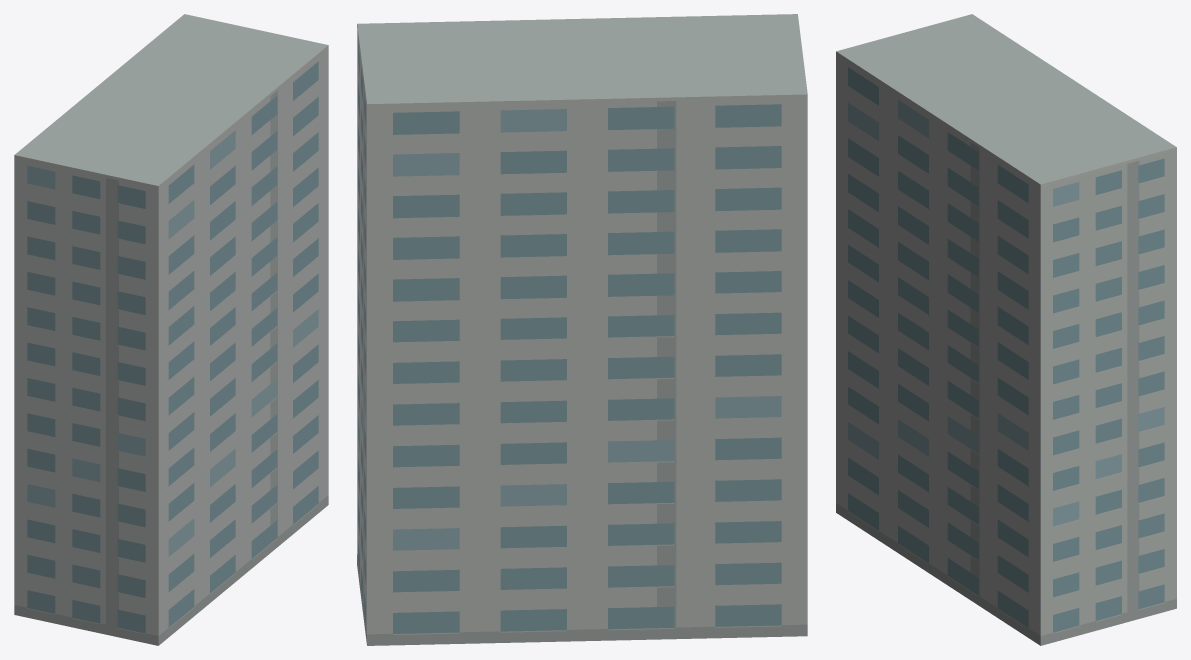
Rendered from residential-eb55fc19-e2c1-43b8-8e9c-0770d9b9ad69.glb.
3 renders of one model, left to right at view 1: azimuth 30°, elevation 25°; view 2: azimuth 150°, elevation 25°; view 3: azimuth 270°, elevation 25°, orthographic. The views are drawn at different scales.
Parts seen in each view (by area): view 1: residential-eb55fc19-e2c1-43b8-8e9c-0770d9b9ad69.tmp; view 2: residential-eb55fc19-e2c1-43b8-8e9c-0770d9b9ad69.tmp; view 3: residential-eb55fc19-e2c1-43b8-8e9c-0770d9b9ad69.tmp.
Part boxes in pixels (left/top/right/bottom): residential-eb55fc19-e2c1-43b8-8e9c-0770d9b9ad69.tmp: left=14, top=14, right=328, bottom=645; residential-eb55fc19-e2c1-43b8-8e9c-0770d9b9ad69.tmp: left=357, top=14, right=807, bottom=645; residential-eb55fc19-e2c1-43b8-8e9c-0770d9b9ad69.tmp: left=836, top=14, right=1176, bottom=645.
Size of the model in its own units: 29.34 by 37 by 24.78.
